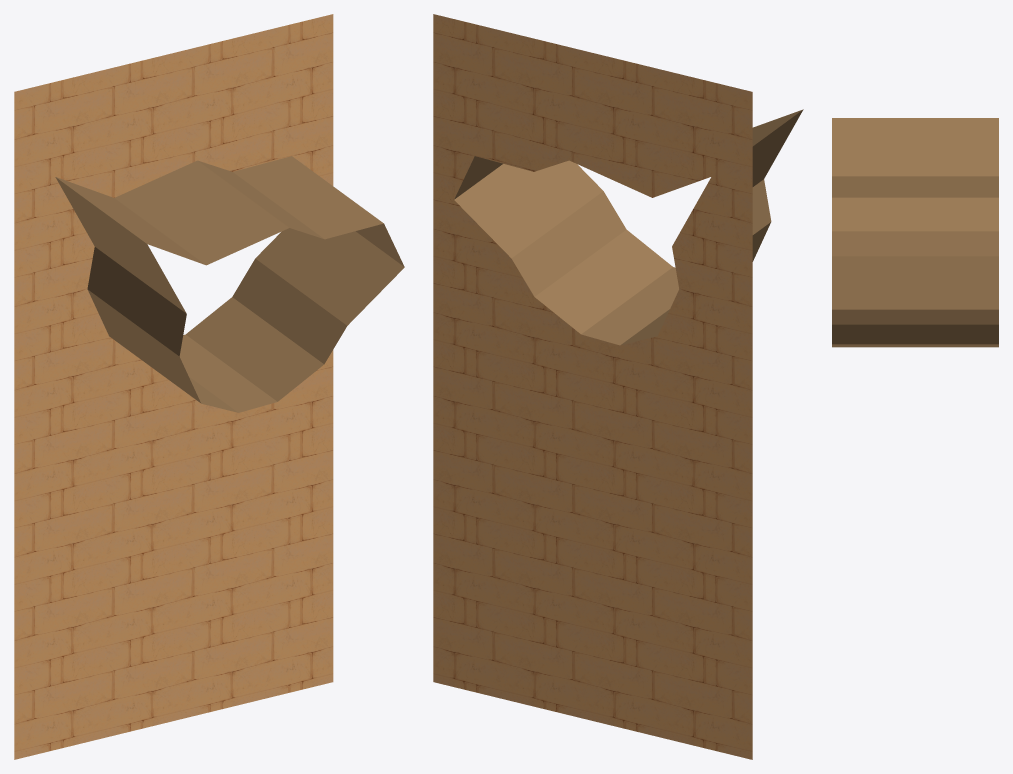
The model's file is Hole_2x4.fbx.
The picture shows the model from 3 angles, left to right: view 1: azimuth 30°, elevation 25°; view 2: azimuth 150°, elevation 25°; view 3: azimuth 270°, elevation 25°; orthographic projection. The views are drawn at different scales.
Parts seen in each view (by area): view 1: Hole_2x4; view 2: Hole_2x4; view 3: Hole_2x4.
Boxes of the visible parts, x1,y1,x2,y2 form: Hole_2x4: (14, 14, 404, 759); Hole_2x4: (433, 14, 803, 759); Hole_2x4: (832, 118, 998, 347).
Size of the model in its own units: 200 by 400 by 100.
